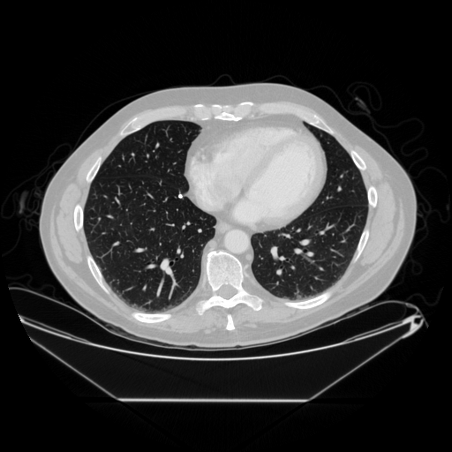nodule: (178, 194, 182, 198)
